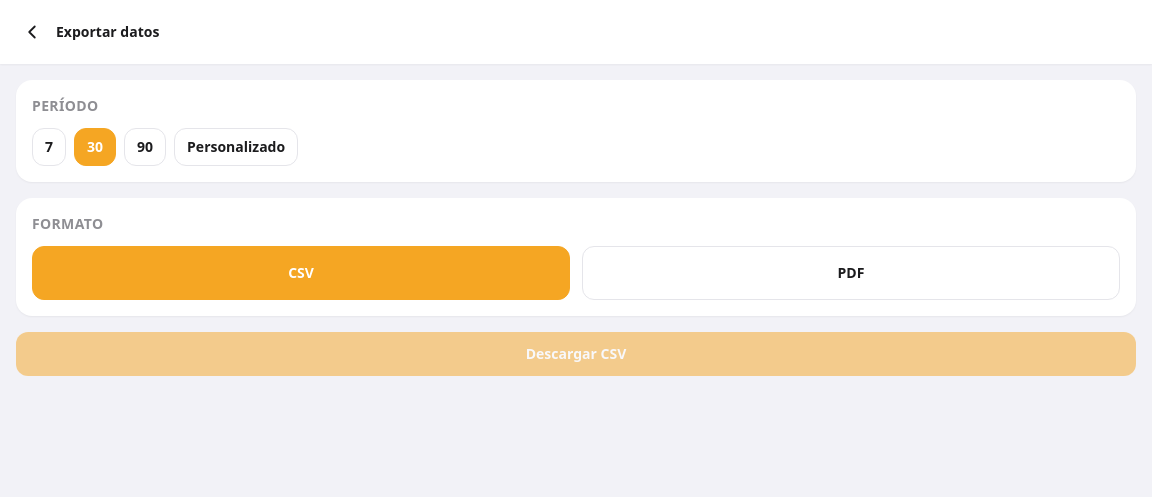
Test: ExportRoute presets and summary › uses singular for a single day
Click the button "Personalizado": coordinates (236, 147) [174,128,298,166]
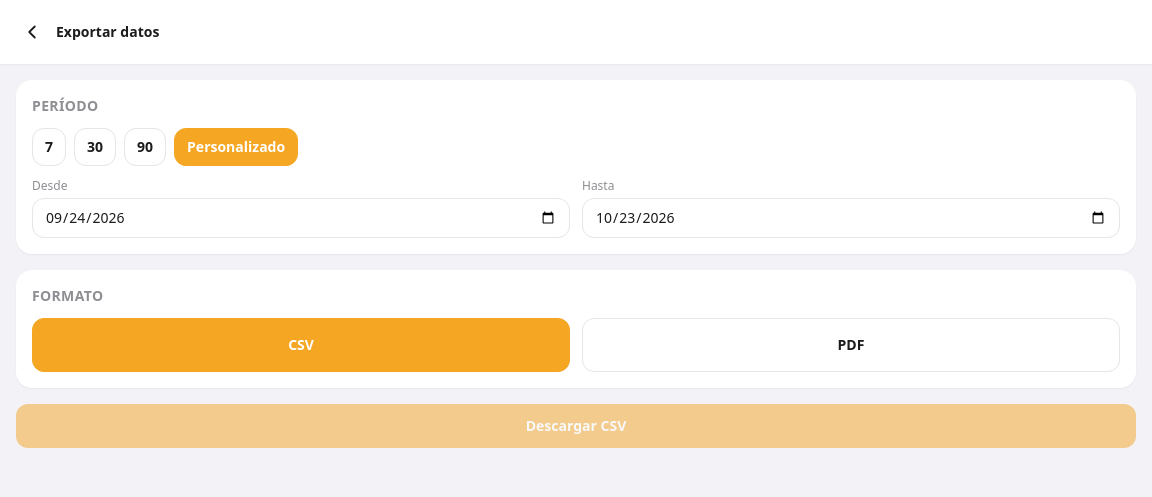
In the date field labelled "Desde": coordinates (301, 218) [32,198,570,238], type "2026-10-20"
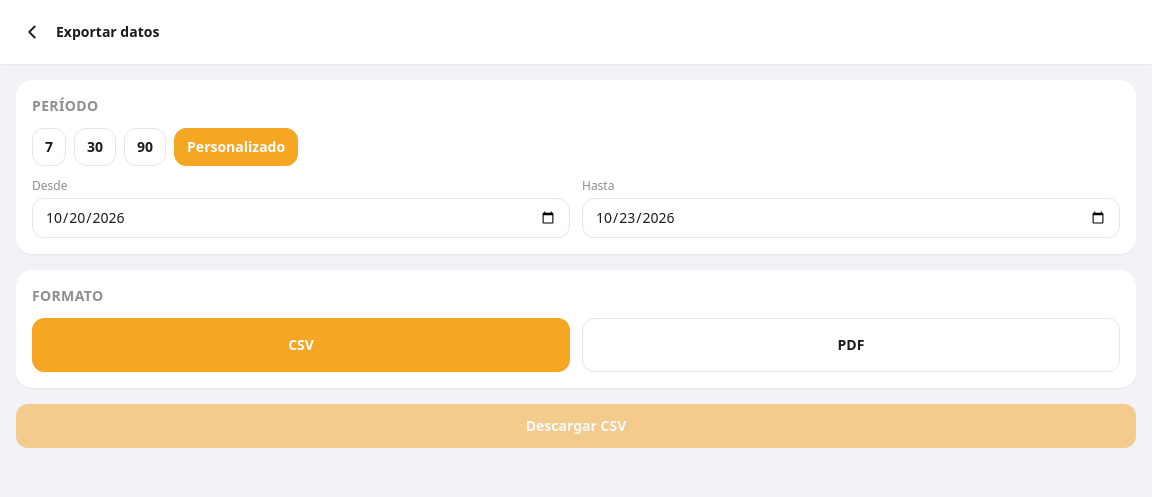
In the date field labelled "Hasta": coordinates (851, 218) [582,198,1120,238], type "2026-10-20"
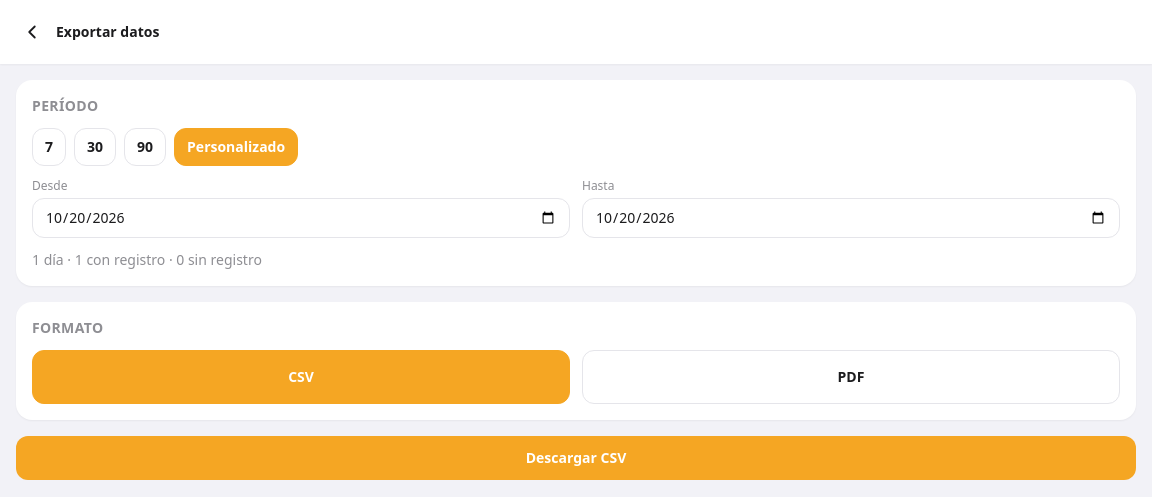
Now the text "1 día · 1 con registro · 0 sin registro" is shown, box [32,250,262,269]
